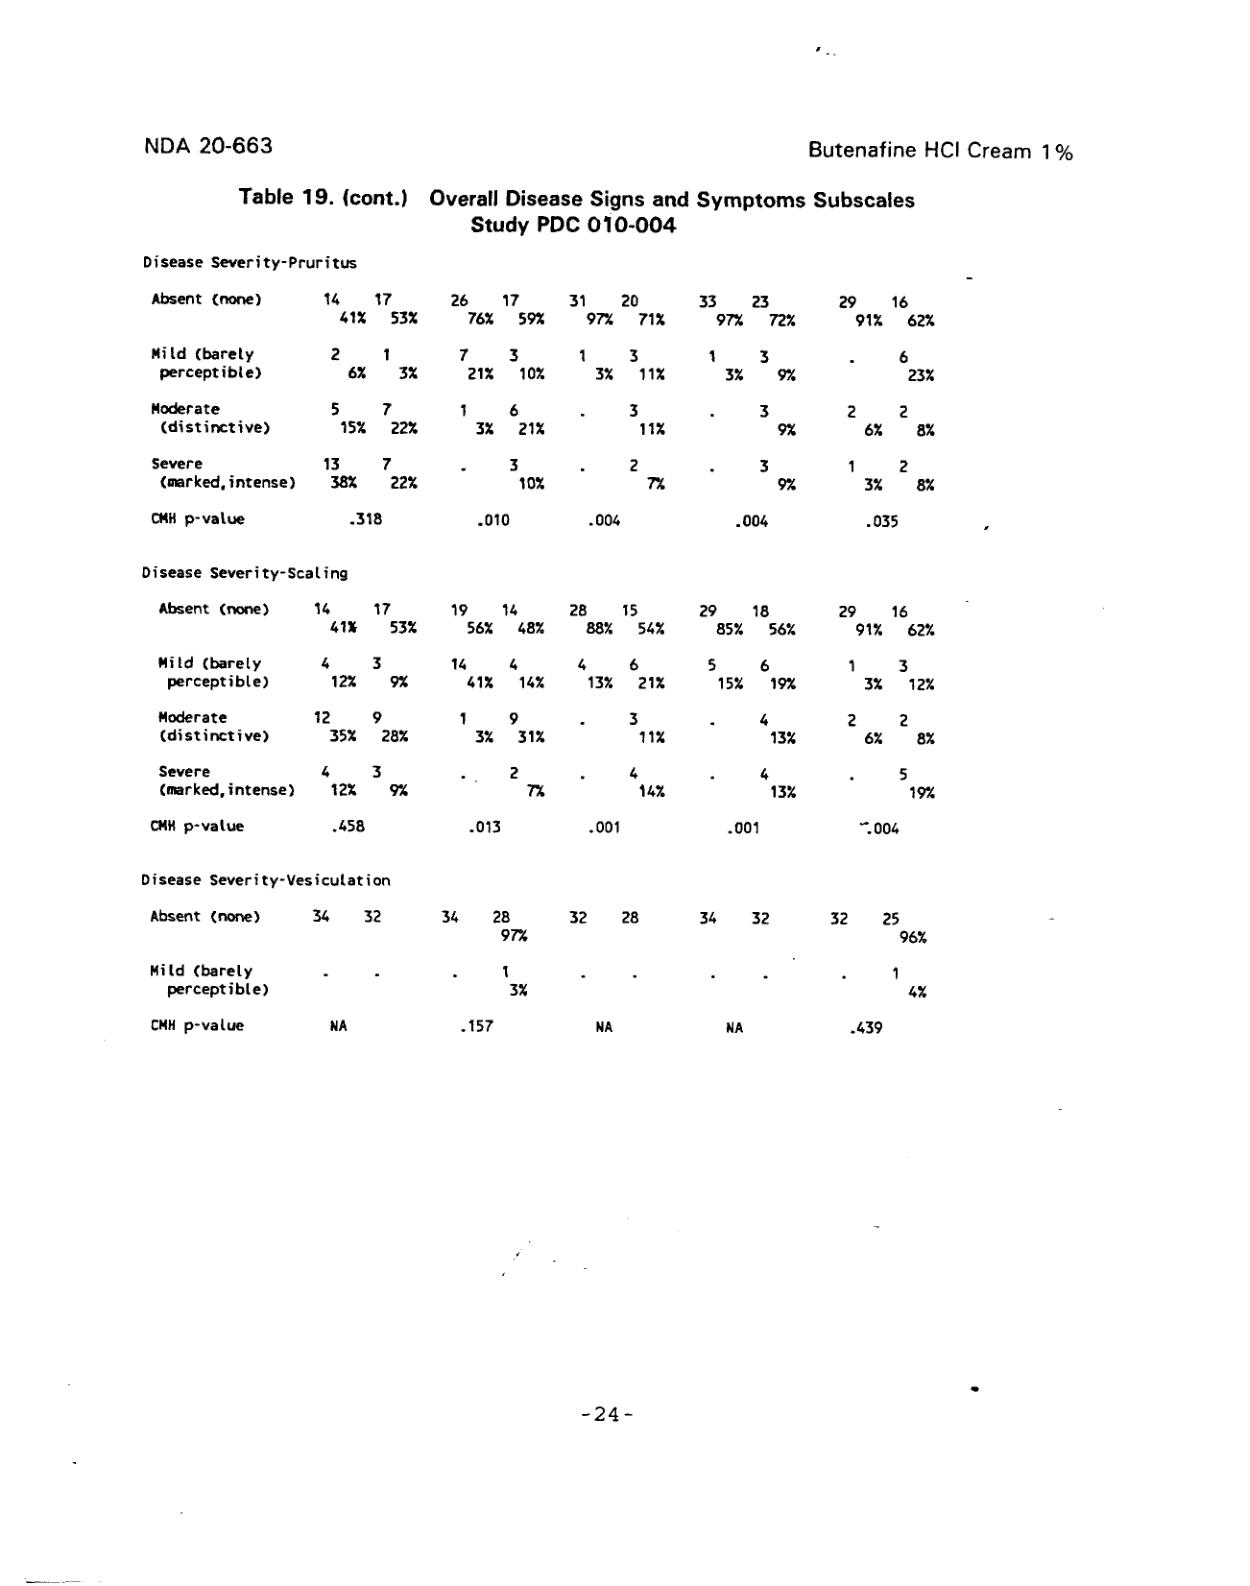nolines: (142, 251, 944, 1038)
